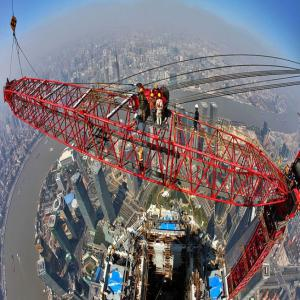white: (196, 105, 199, 111)
yellow: (158, 94, 162, 100), (155, 85, 159, 91), (140, 89, 144, 95), (140, 149, 144, 155), (151, 94, 154, 99)
